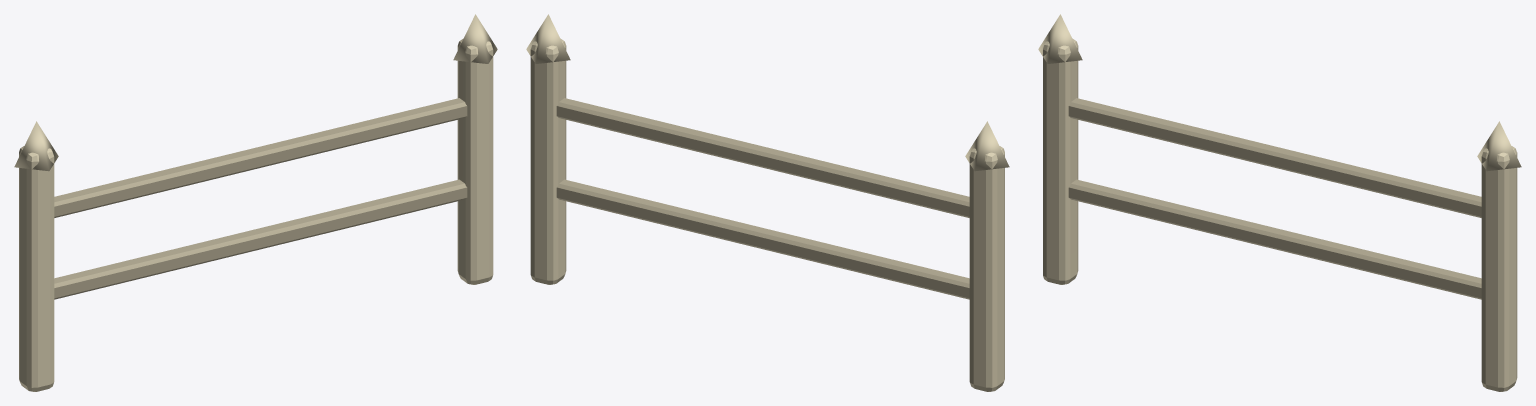
Rendered from fence.glb.
3 renders of one model, left to right at view 1: azimuth 30°, elevation 25°; view 2: azimuth 150°, elevation 25°; view 3: azimuth 330°, elevation 25°, orthographic.
Visible parts, largest first — view 1: fence; view 2: fence; view 3: fence.
Part boxes in pixels (x1=…): fence: x1=14, y1=14, x2=497, y2=391; fence: x1=526, y1=14, x2=1009, y2=391; fence: x1=1038, y1=14, x2=1521, y2=391.
Bounding box in the file's own units: 1.37 × 0.72 × 0.126.
